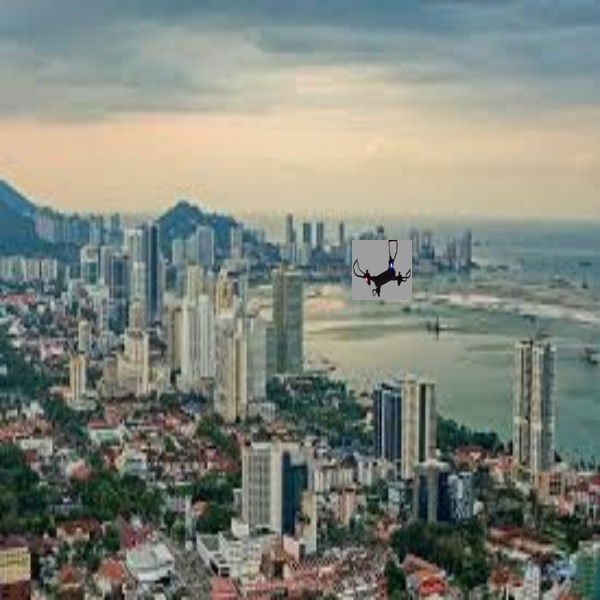drone: (353, 242, 415, 304)
